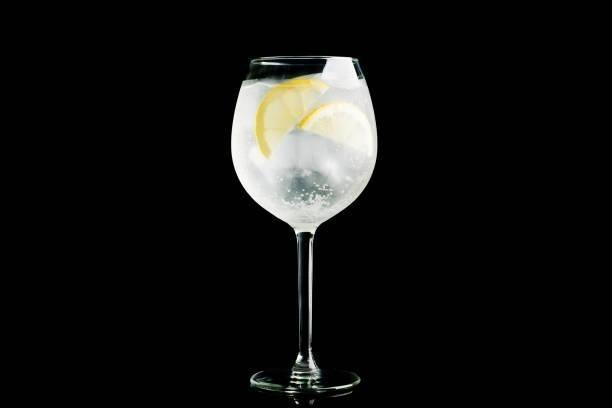glass-wine: (230, 53, 379, 394)
